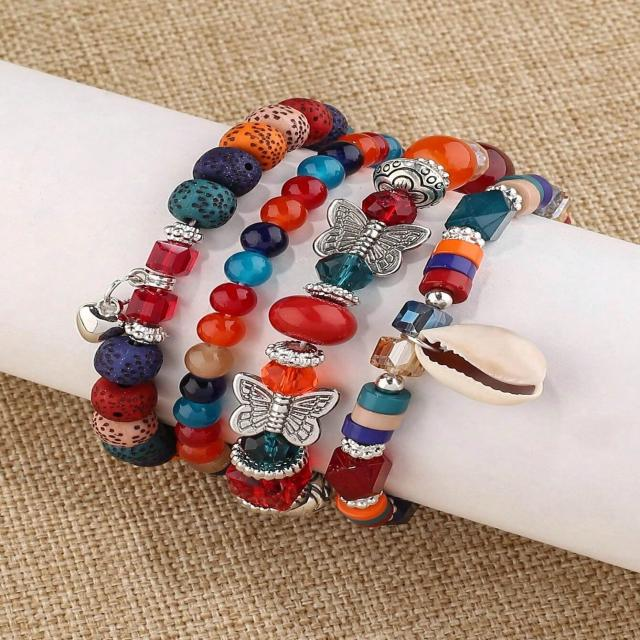bracelet: (8, 35, 640, 580)
